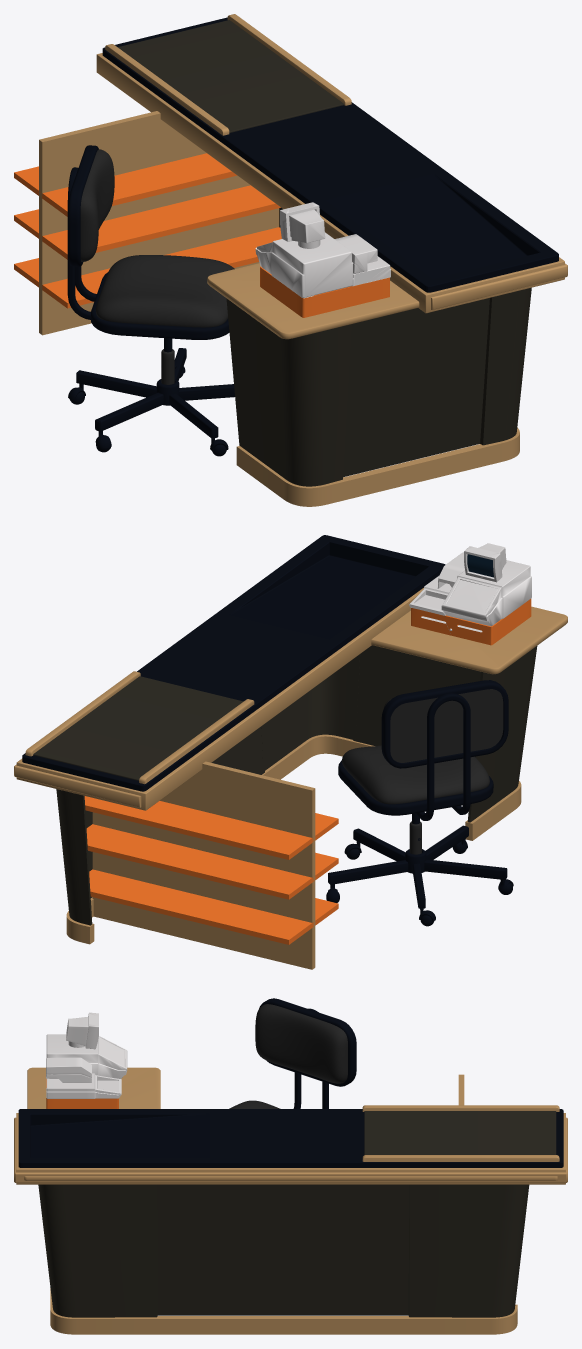
Rendered from Closer door_01.fbx.
The picture shows the model from 3 angles, top to bottom: view 1: azimuth 30°, elevation 25°; view 2: azimuth 150°, elevation 25°; view 3: azimuth 270°, elevation 25°; orthographic projection. The views are drawn at different scales.
Visible parts, largest first — view 1: Box7421_2, Box7422_2, моя_касса_obj_2, Box01_2, Box7414_2, till01_1, Box7427_2, Box7420_2, Box7423_2, Box7424_2, Box7412_2, Box7425_2 (+11 smaller); view 2: Box7421_2, Box01_2, Box7422_2, Box7414_2, till01_1, моя_касса_obj_2, Box7424_2, Box7426_2, Box7423_2, Rectangle06_2, Box7425_2, Box7412_2 (+11 smaller); view 3: моя_касса_obj_2, Box7422_2, Box7421_2, Box7420_2, Box7414_2, till01_1, Box7428_2, Box7419_2, Box7423_2, Box7417_2, Box7415_2, Box7412_2 (+2 smaller).
Boxes of the visible parts, x1,y1,x2,y2 form: Box7421_2: (102,17,558,292); Box7422_2: (226,207,531,486); моя_касса_obj_2: (343,298,489,476); Box01_2: (39,111,279,335); Box7414_2: (118,20,344,132); till01_1: (255,202,390,317); Box7427_2: (95,255,234,327); Box7420_2: (236,427,519,506); Box7423_2: (96,53,564,313); Box7424_2: (14,185,280,259); Box7412_2: (207,263,419,339); Box7425_2: (14,153,236,216); Box7421_2: (22,535,445,791); Box01_2: (92,761,315,969); Box7422_2: (56,646,537,925); Box7414_2: (33,676,243,780); till01_1: (409,543,531,645); моя_касса_obj_2: (211,645,480,774); Box7424_2: (86,824,338,899); Box7426_2: (89,869,338,944); Box7423_2: (16,588,423,810); Rectangle06_2: (390,689,503,762); Box7425_2: (84,796,338,859); Box7412_2: (371,606,567,674); моя_касса_obj_2: (157,1184,409,1315); Box7422_2: (38,1184,529,1317); Box7421_2: (18,1109,563,1167); Box7420_2: (50,1288,517,1334); Box7414_2: (364,1111,556,1155); till01_1: (46,1012,127,1108); Box7428_2: (255,1004,347,1083); Box7419_2: (14,1117,567,1182); Box7423_2: (16,1113,565,1184); Box7417_2: (24,1176,557,1180); Box7415_2: (362,1105,559,1161); Box7412_2: (27,1067,160,1108).
Bounding box in the file's own units: 143 × 109 × 234.
